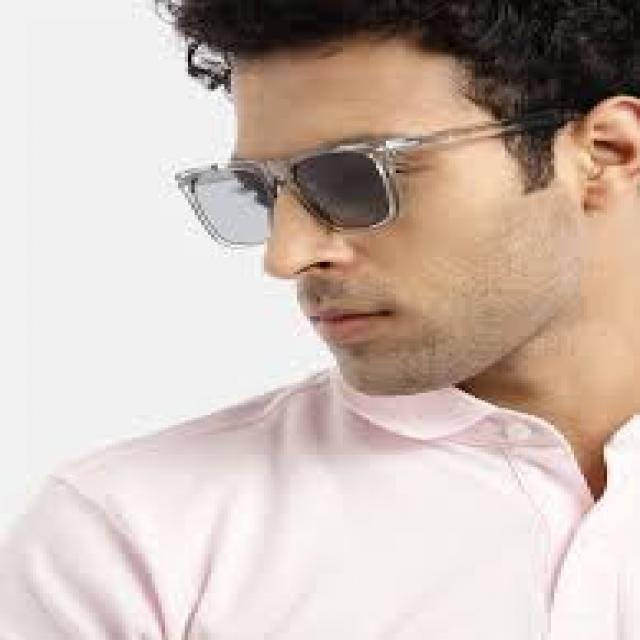suspicious-objects: (176, 142, 408, 246)
